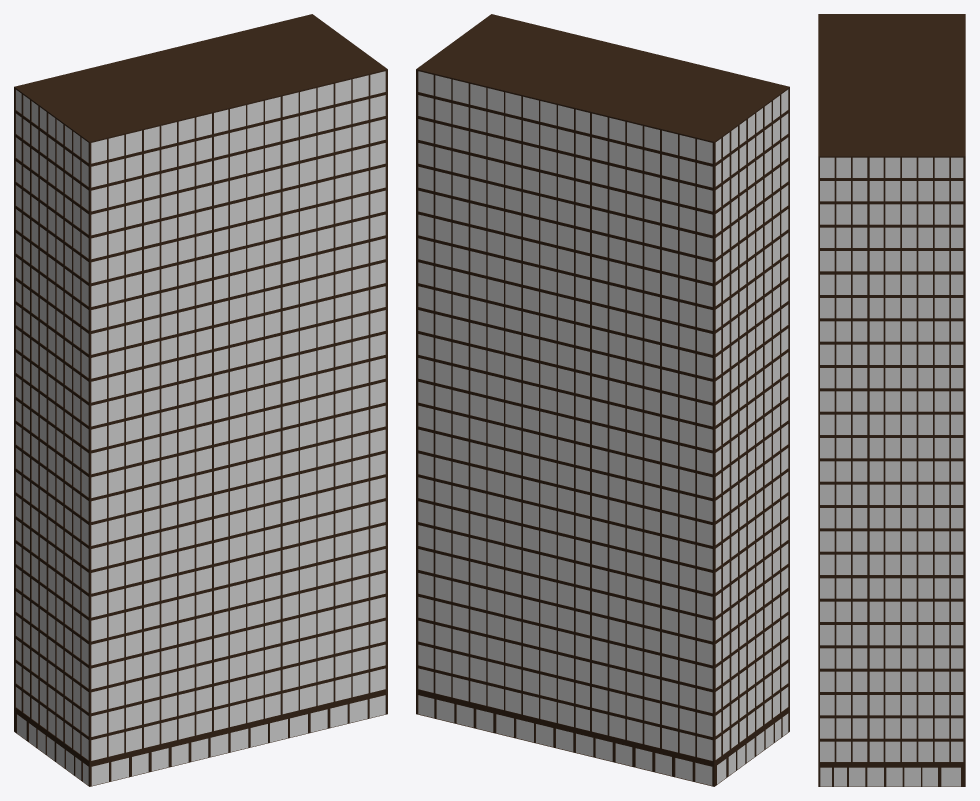
File: building6.fbx
3 views of the same model, side by side, from view 1: azimuth 30°, elevation 25°; view 2: azimuth 150°, elevation 25°; view 3: azimuth 270°, elevation 25° (orthographic). The views are drawn at different scales.
Visible parts, largest first — view 1: Cube.046; view 2: Cube.046; view 3: Cube.046.
Part boxes in pixels (box(x1,y1,x2,y2)): Cube.046: box(14, 14, 387, 786); Cube.046: box(416, 14, 789, 786); Cube.046: box(818, 14, 965, 786).
Size of the model in its own units: 8940 by 18473 by 3913.
